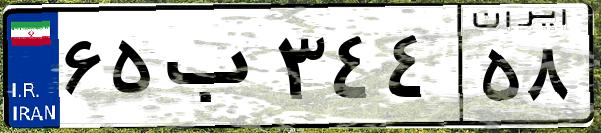3: (270, 28, 330, 110)
4: (385, 28, 445, 110), (330, 28, 385, 110)
5: (475, 38, 525, 113), (110, 28, 158, 98)
6: (57, 26, 110, 100)
8: (525, 38, 570, 115)
ب: (158, 20, 270, 120)
